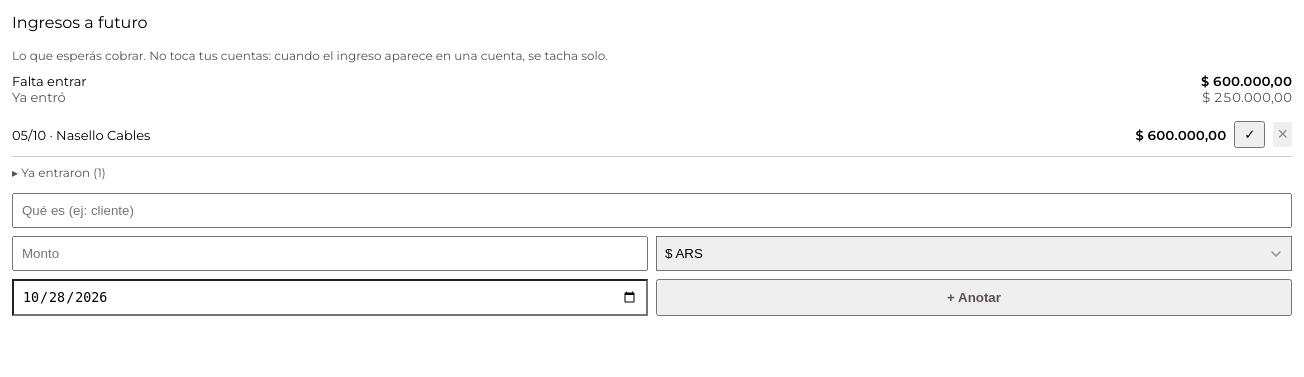
se anota con la coma del celular y no toca las cuentas
The width and height of the screenshot is (1304, 377).
Expected: the text "05/10 · Nasello Cables" is shown, [12,126,150,142]
Type "  Cue   Rental " into the field labelled "Qué es" at [652, 210], box [12,193,1292,228]
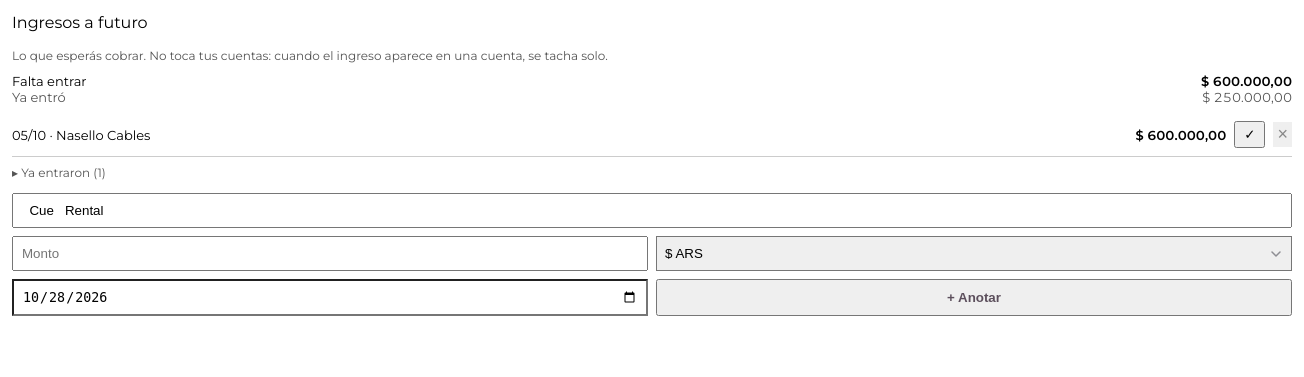
Type "200.000,50" into the field named "Monto esperado" at [330, 254], box [12,236,648,271]
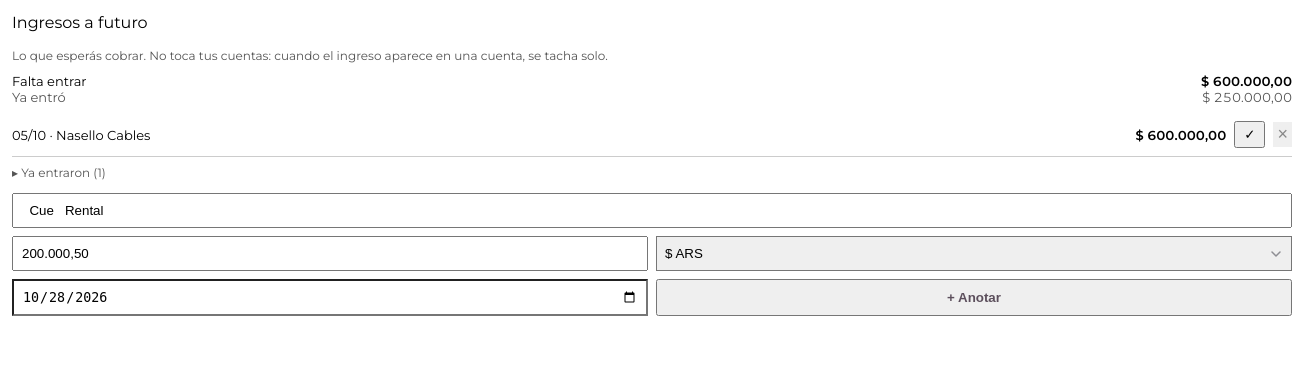
Type "2026-10-10" into the date field named "Fecha esperada" at [330, 298], box [12,279,648,316]
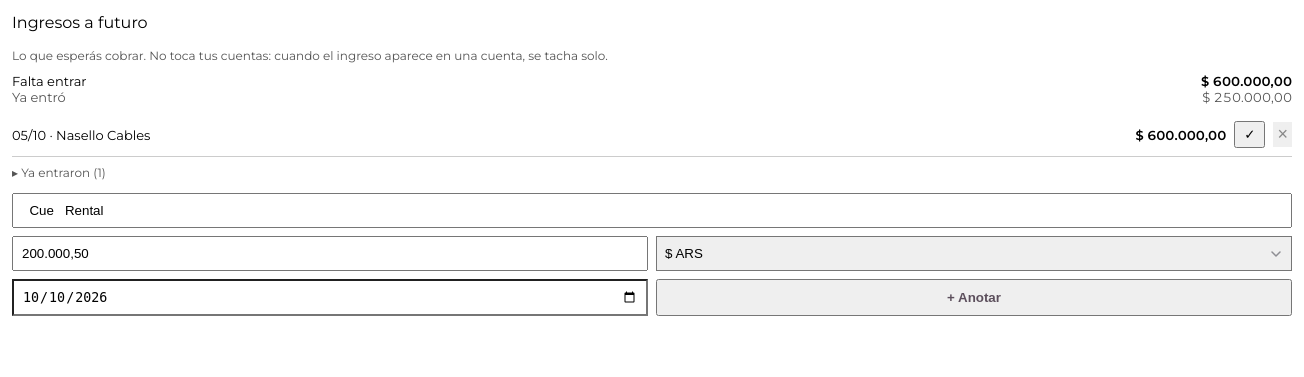
Click the button "+ Anotar" at [974, 298], box [656,279,1292,316]
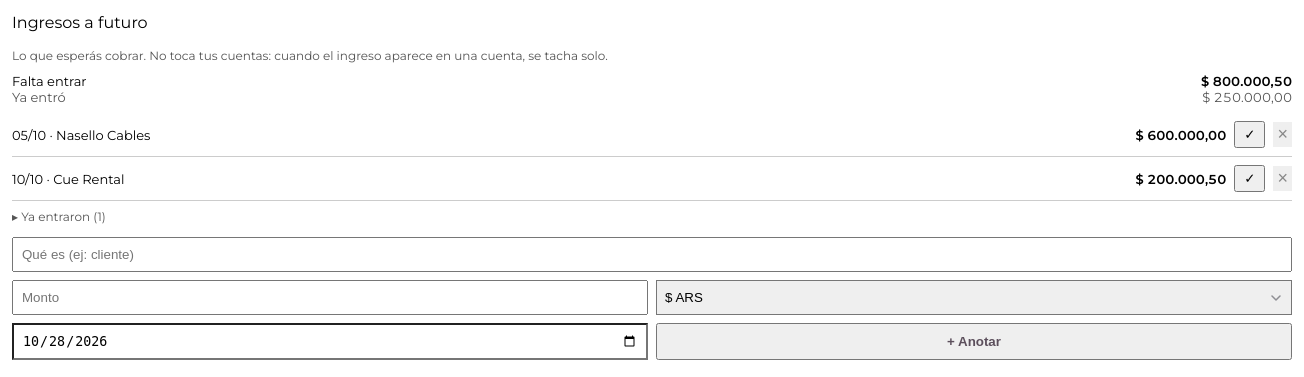
Result: the text "10/10 · Cue Rental" is shown at [12,170,124,186]
